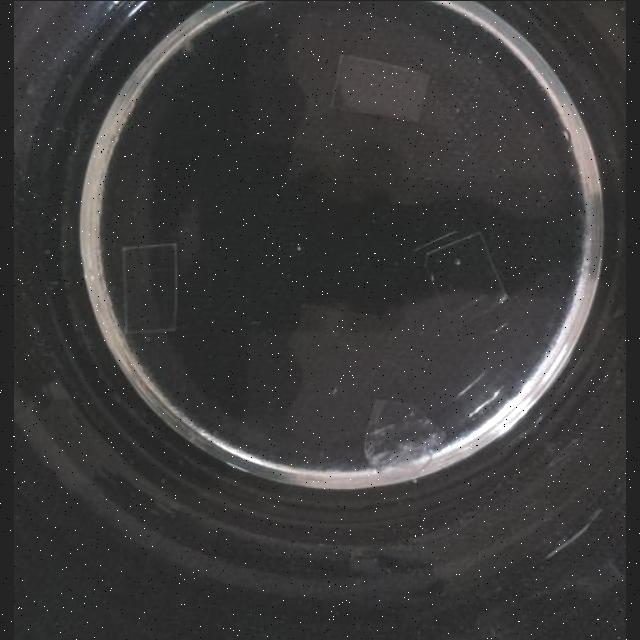Film: (419, 226, 509, 320), (332, 50, 432, 120), (120, 238, 180, 334)
Fragment: (363, 398, 443, 482)
